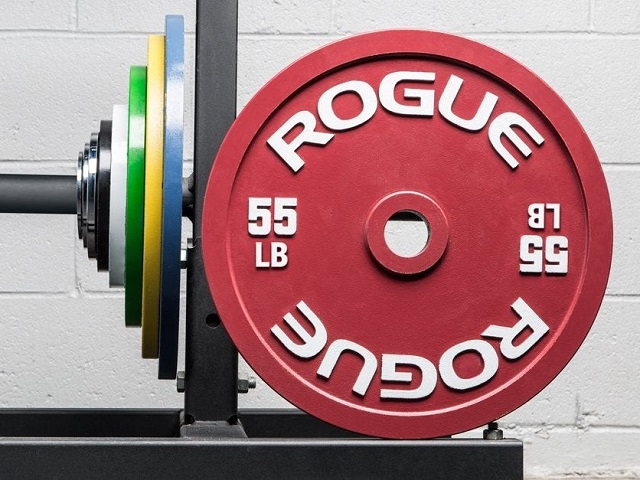weights: (200, 29, 613, 436), (159, 14, 186, 380), (143, 34, 166, 360), (125, 65, 147, 329), (109, 104, 128, 287), (95, 119, 112, 272), (87, 133, 101, 261)
